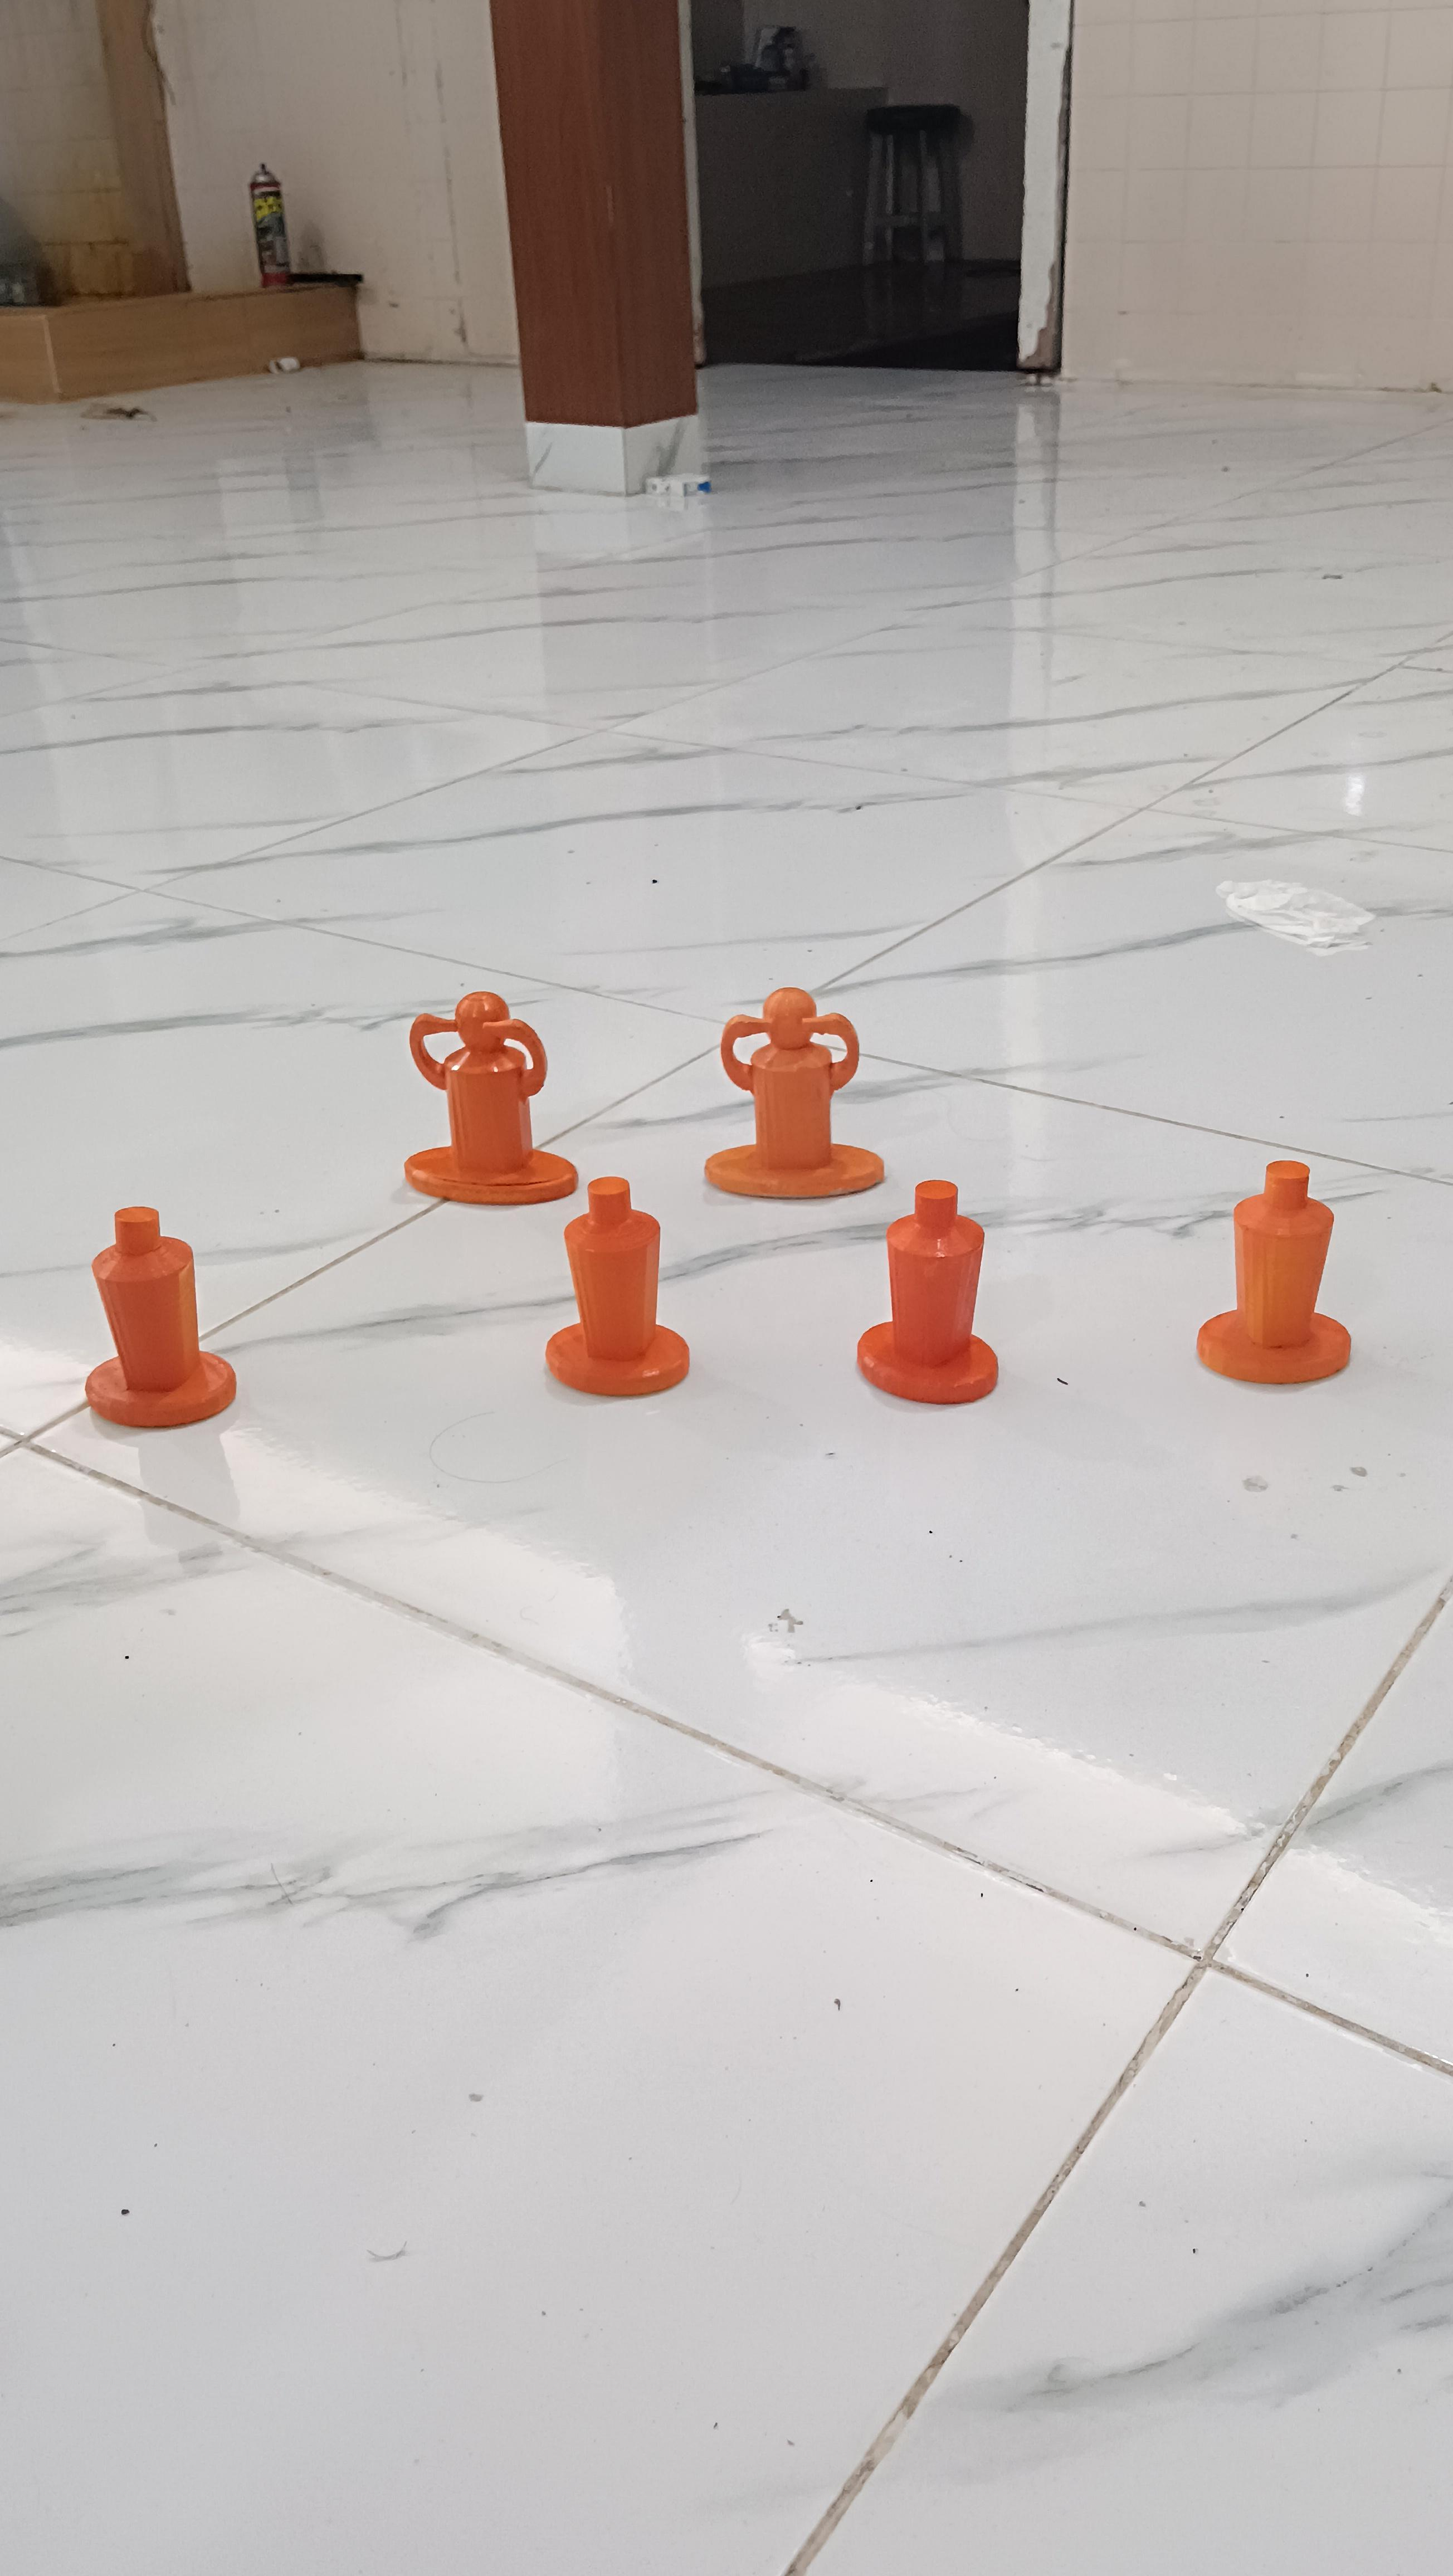dummy: (1181, 1145, 1375, 1399), (852, 1173, 1042, 1423), (67, 1195, 252, 1442), (532, 1175, 713, 1404)
real_person: (359, 964, 582, 1206), (685, 967, 896, 1214)
